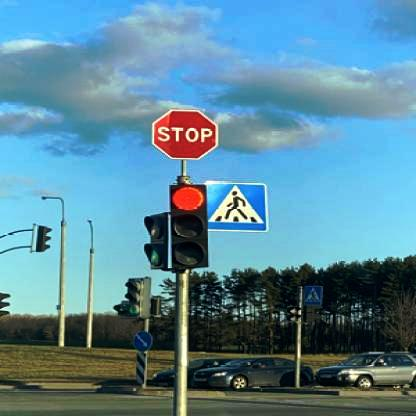Stop Sign: (150, 109, 221, 160)
